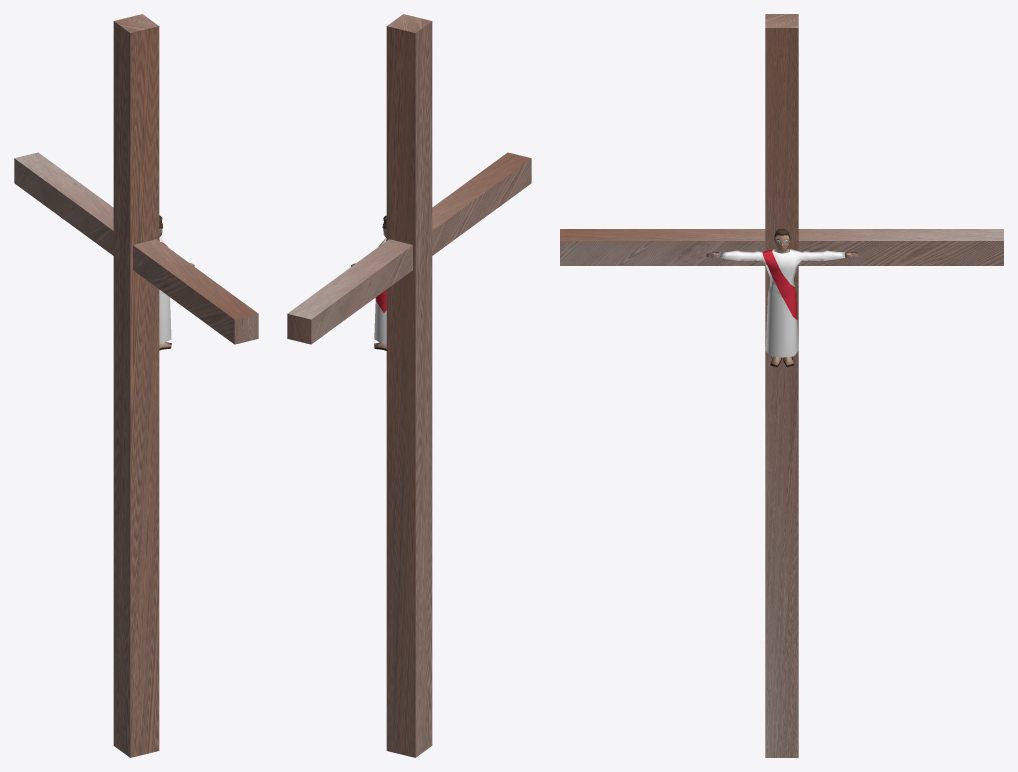
The model's file is krzyz.fbx.
3 renders of one model, left to right at view 1: azimuth 30°, elevation 25°; view 2: azimuth 150°, elevation 25°; view 3: azimuth 270°, elevation 25°, orthographic.
Visible parts, largest first — view 1: Cube; view 2: Cube; view 3: Cube.
Boxes of the visible parts, x1,y1,x2,y2 form: Cube: [14, 14, 258, 757]; Cube: [287, 14, 531, 757]; Cube: [560, 14, 1003, 757].
Size of the model in its own units: 74.64 by 1094 by 603.
Materials: 11 (3 with a texture image).
